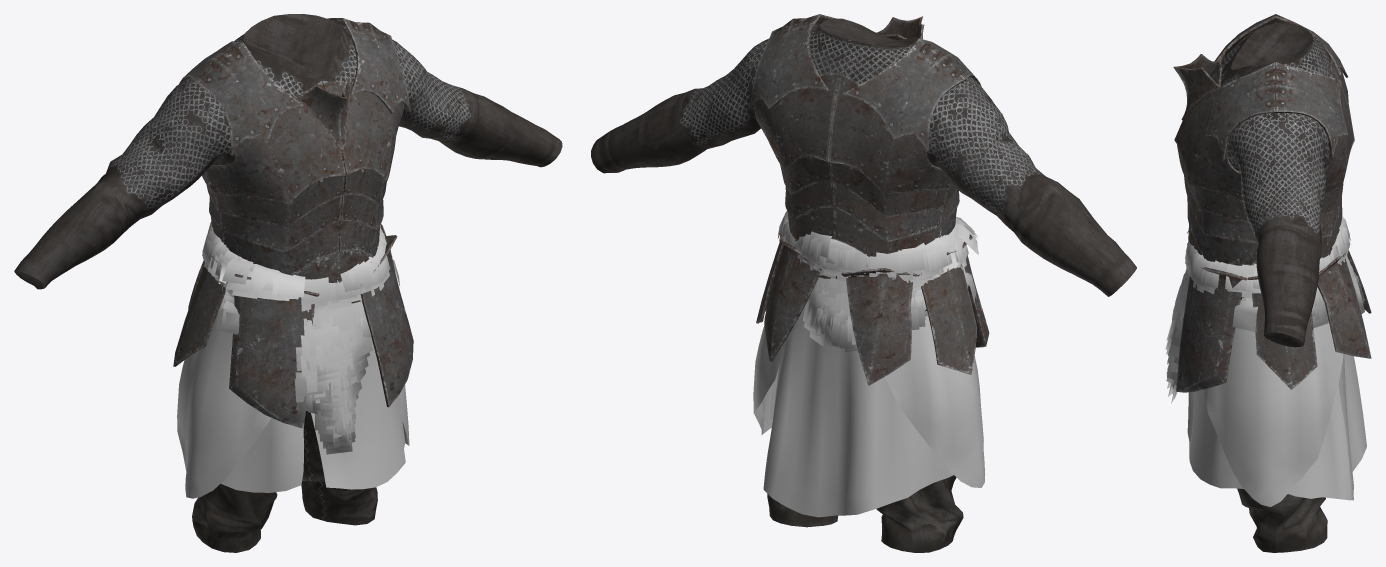
The model's file is sk_gb_uruk_chest_elite_b.fbx.
3 renders of one model, left to right at view 1: azimuth 30°, elevation 25°; view 2: azimuth 150°, elevation 25°; view 3: azimuth 270°, elevation 25°, orthographic. The views are drawn at different scales.
Parts seen in each view (by area): view 1: sk_gb_uruk_chest_elite_b.base.2, sk_gb_uruk_chest_elite_b.base.1, sk_gb_uruk_chest_elite_b.skirt.1, sk_gb_uruk_chest_elite_b.skirt.2, sk_gb_uruk_chest_elite_b.base.0; view 2: sk_gb_uruk_chest_elite_b.base.2, sk_gb_uruk_chest_elite_b.skirt.1, sk_gb_uruk_chest_elite_b.base.1, sk_gb_uruk_chest_elite_b.skirt.2, sk_gb_uruk_chest_elite_b.base.0; view 3: sk_gb_uruk_chest_elite_b.base.2, sk_gb_uruk_chest_elite_b.skirt.1, sk_gb_uruk_chest_elite_b.base.1, sk_gb_uruk_chest_elite_b.skirt.2, sk_gb_uruk_chest_elite_b.base.0.
Part boxes in pixels (x1,y1,x2,y2): sk_gb_uruk_chest_elite_b.base.2: (173,18,413,428); sk_gb_uruk_chest_elite_b.base.1: (14,14,562,289); sk_gb_uruk_chest_elite_b.skirt.1: (177,312,409,498); sk_gb_uruk_chest_elite_b.skirt.2: (202,222,399,454); sk_gb_uruk_chest_elite_b.base.0: (192,411,377,552); sk_gb_uruk_chest_elite_b.base.2: (750,14,989,385); sk_gb_uruk_chest_elite_b.skirt.1: (753,304,985,517); sk_gb_uruk_chest_elite_b.base.1: (591,18,1136,296); sk_gb_uruk_chest_elite_b.skirt.2: (778,211,978,352); sk_gb_uruk_chest_elite_b.base.0: (767,475,963,552); sk_gb_uruk_chest_elite_b.base.2: (1173,14,1371,392); sk_gb_uruk_chest_elite_b.skirt.1: (1187,321,1366,506); sk_gb_uruk_chest_elite_b.base.1: (1221,23,1330,347); sk_gb_uruk_chest_elite_b.skirt.2: (1165,217,1364,403); sk_gb_uruk_chest_elite_b.base.0: (1237,488,1327,552).
Size of the model in its own units: 1.35 by 0.4686 by 1.2.
